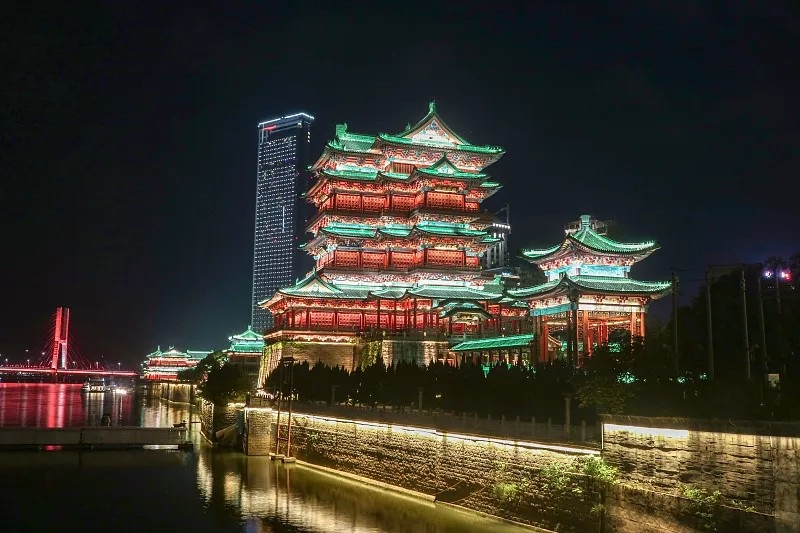Teng: (259, 102, 529, 339)
